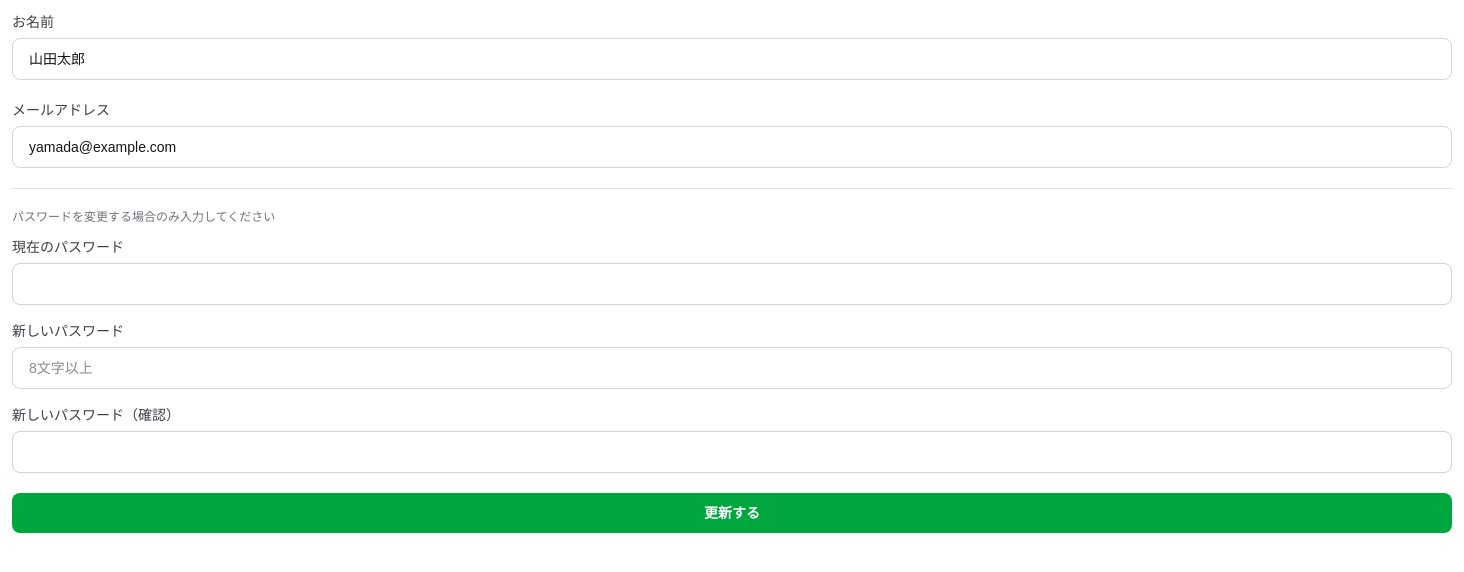
Test: ProfileForm › パスワード確認が一致しない場合はエラーになる
Type "current123" into the password field below "現在のパスワード" at (732, 284), box [12,263,1452,305]
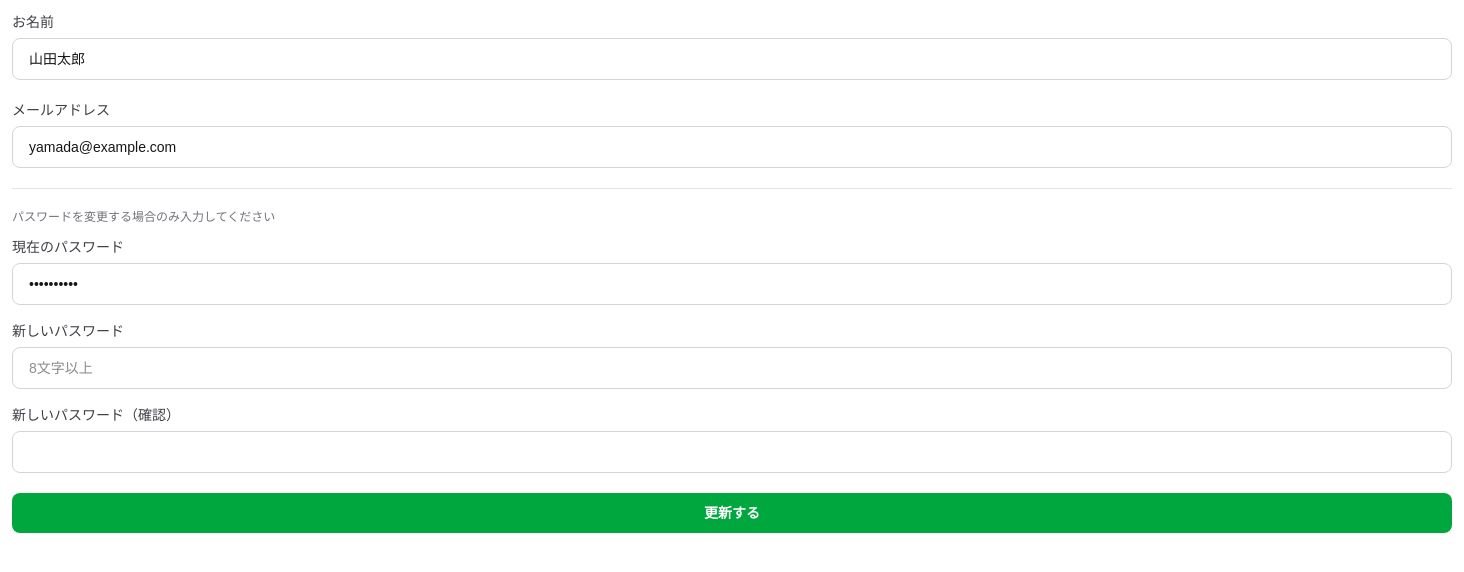
Type "newpassword" into the password field with placeholder "8文字以上" at (732, 368), box [12,347,1452,389]
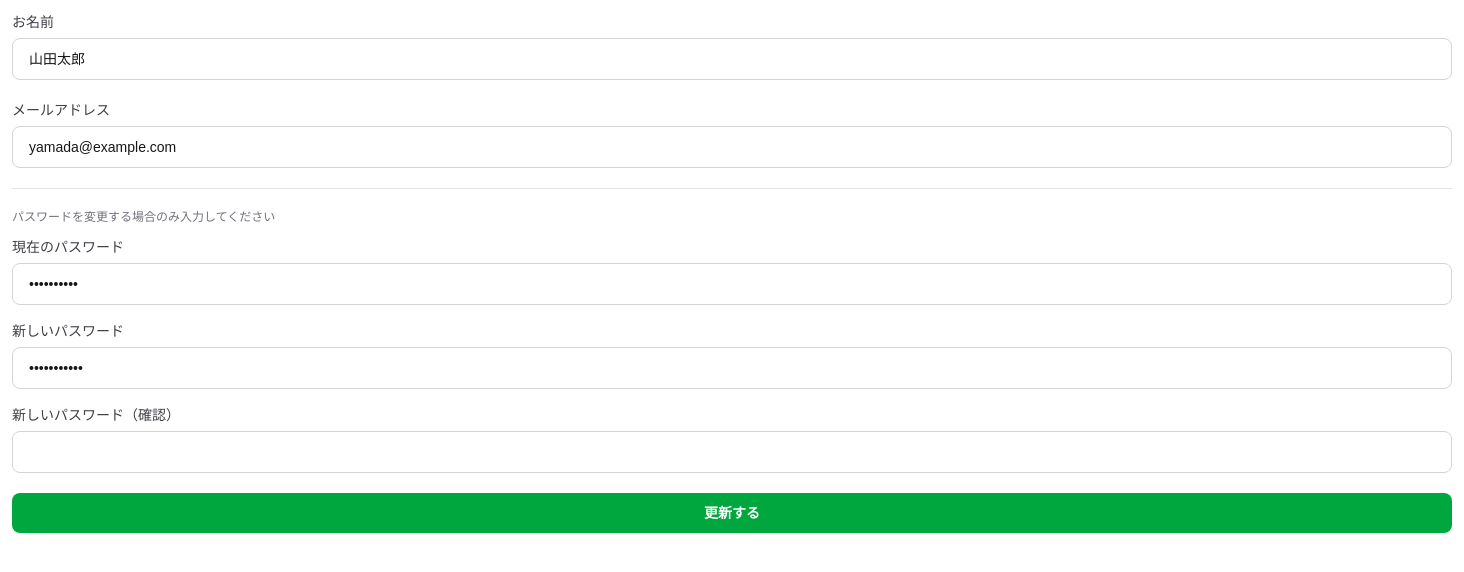
Type "mismatch" into the password field below "新しいパスワード（確認）" at (732, 452), box [12,431,1452,473]
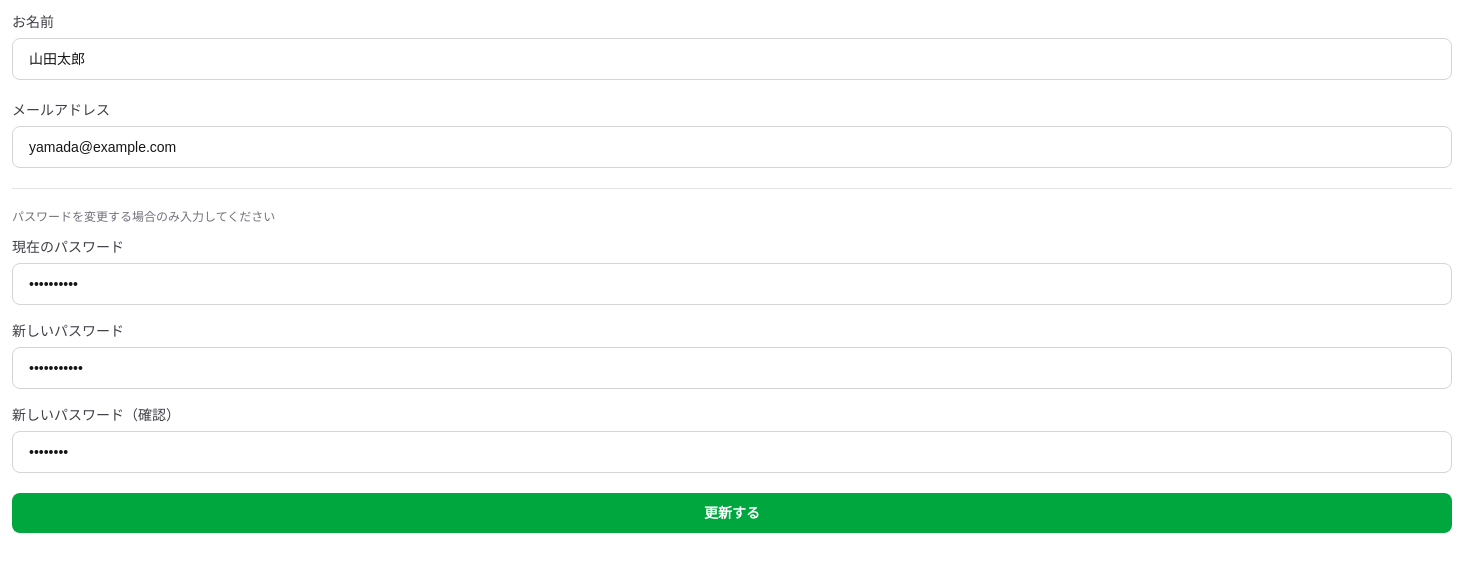
Click the button "更新する" at (732, 513), box [12,493,1452,533]
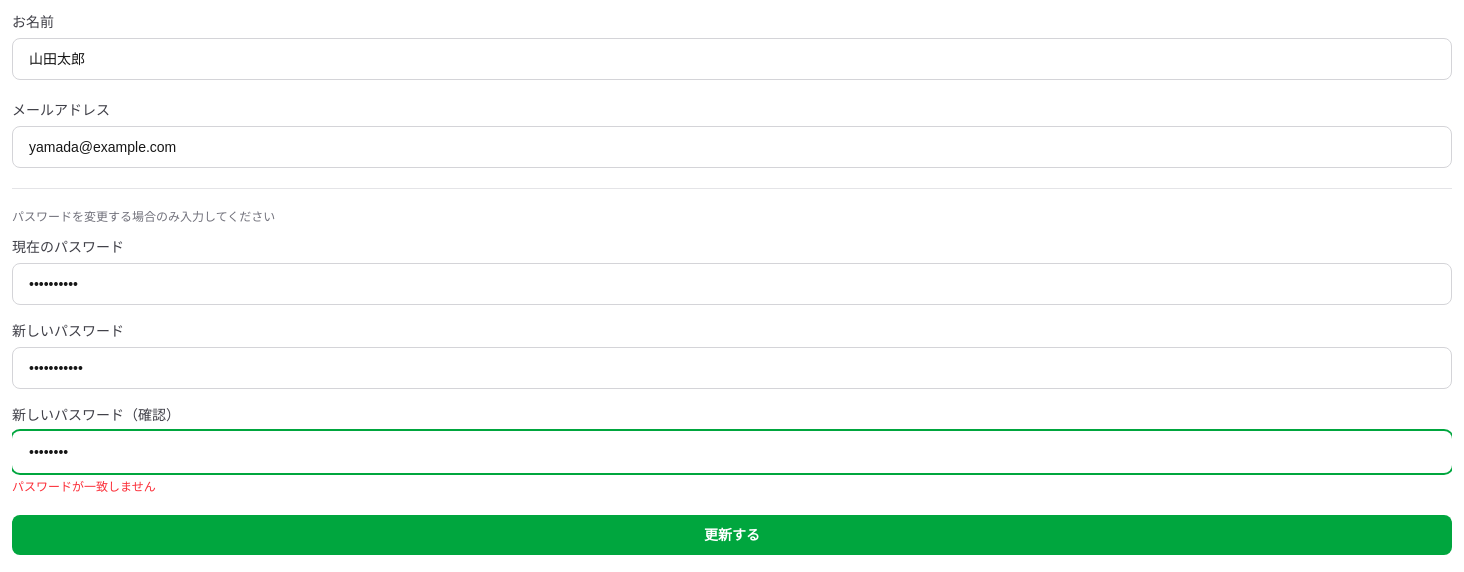
Expected: the text "パスワードが一致しません" is shown, [12,480,156,494]
